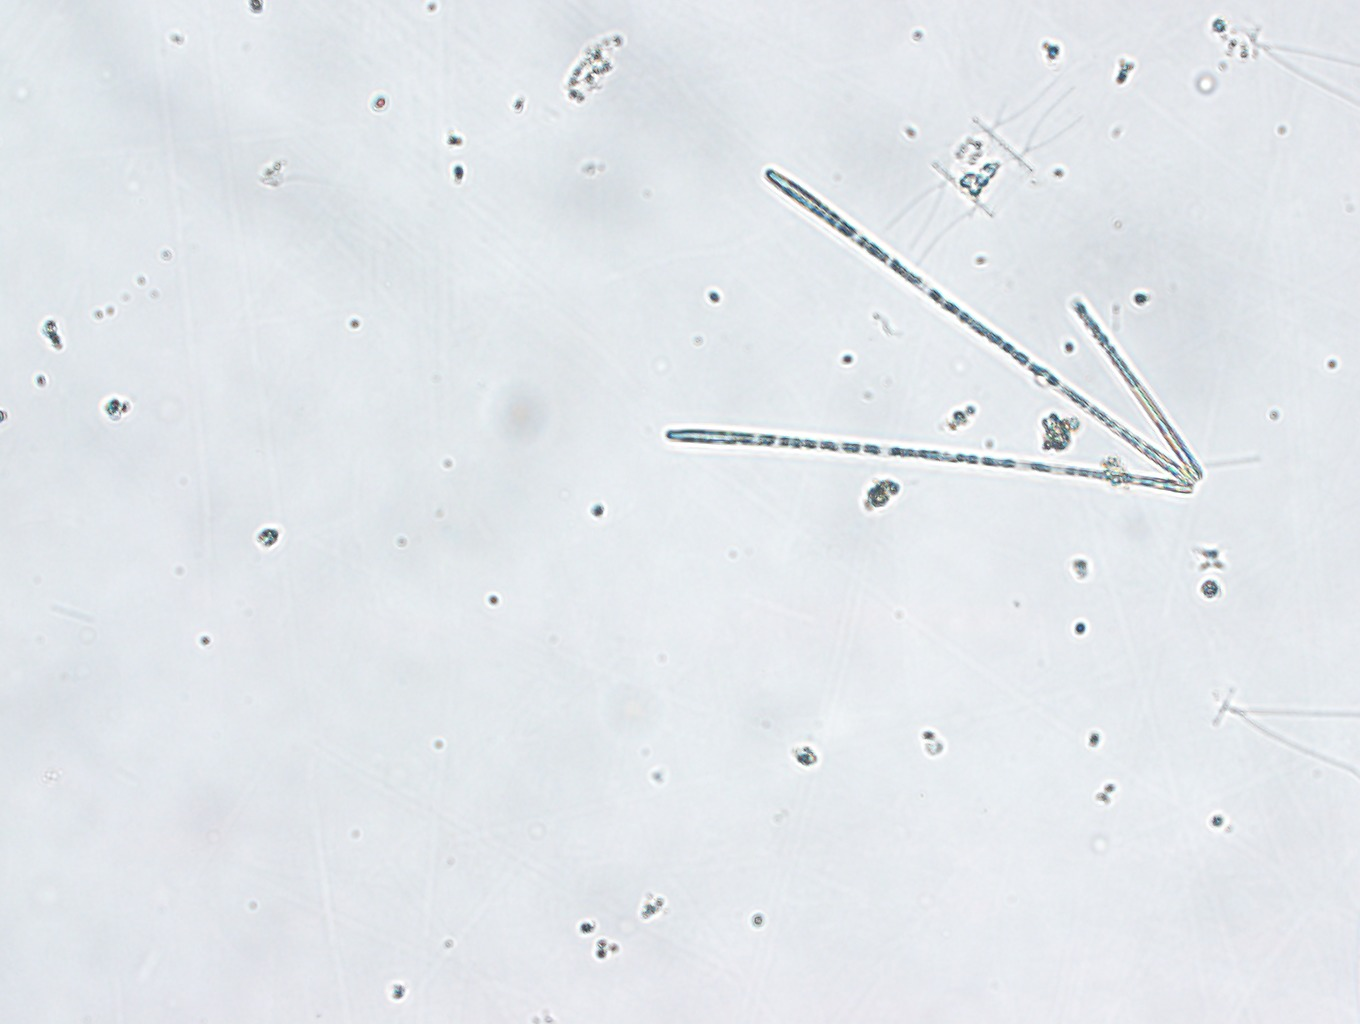chaetoceros: (886, 69, 1079, 269), (1209, 685, 1360, 780), (1235, 16, 1360, 110)
thalassionema frauenfeldii: (660, 163, 1209, 504)
